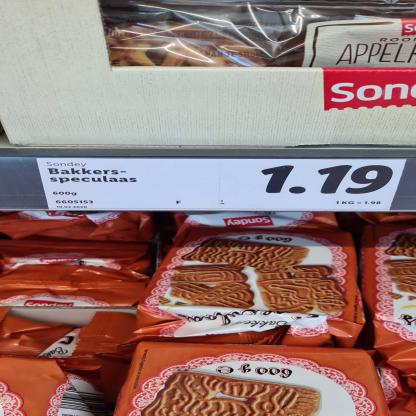prtg: (38, 159, 408, 212)
